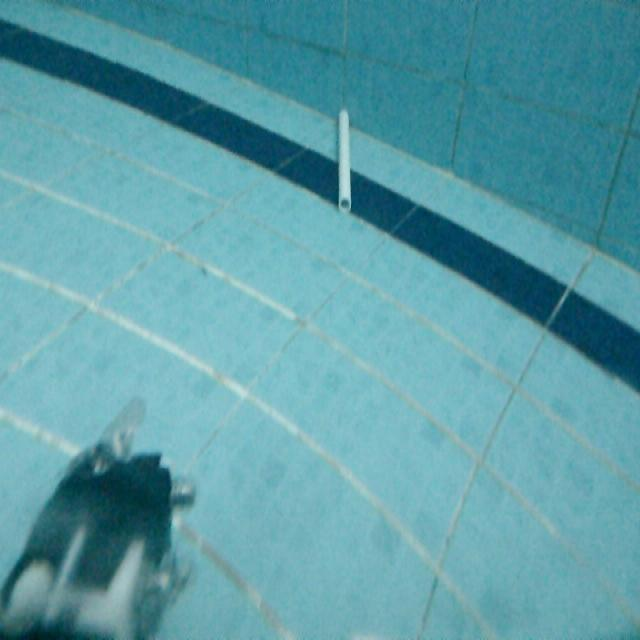Cube: (334, 104, 354, 215)
